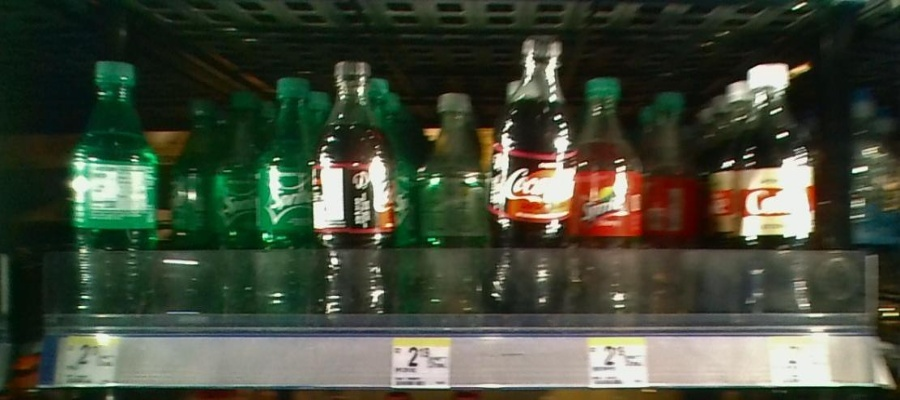bottle: (68, 54, 161, 328), (493, 38, 576, 315), (736, 63, 816, 322), (319, 60, 395, 323), (417, 78, 486, 310), (580, 68, 641, 319), (256, 78, 314, 316), (643, 83, 698, 312), (213, 87, 253, 314)
